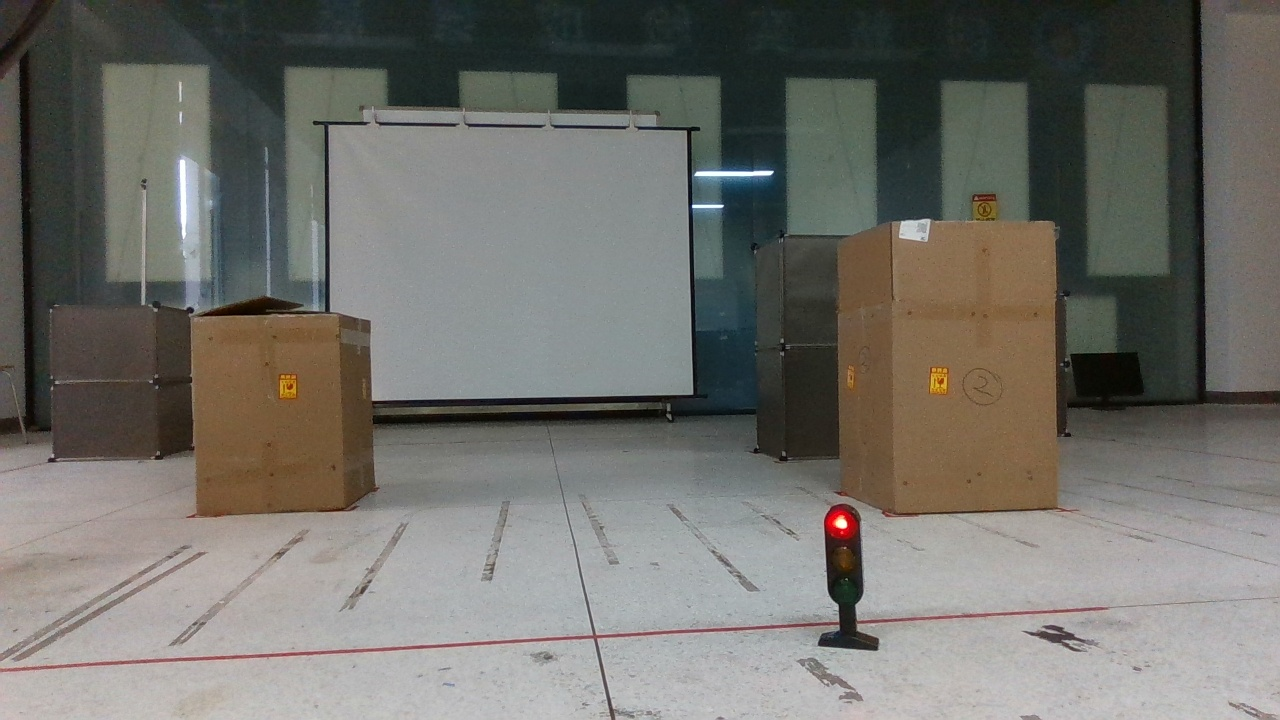red_light: (806, 489, 889, 656)
